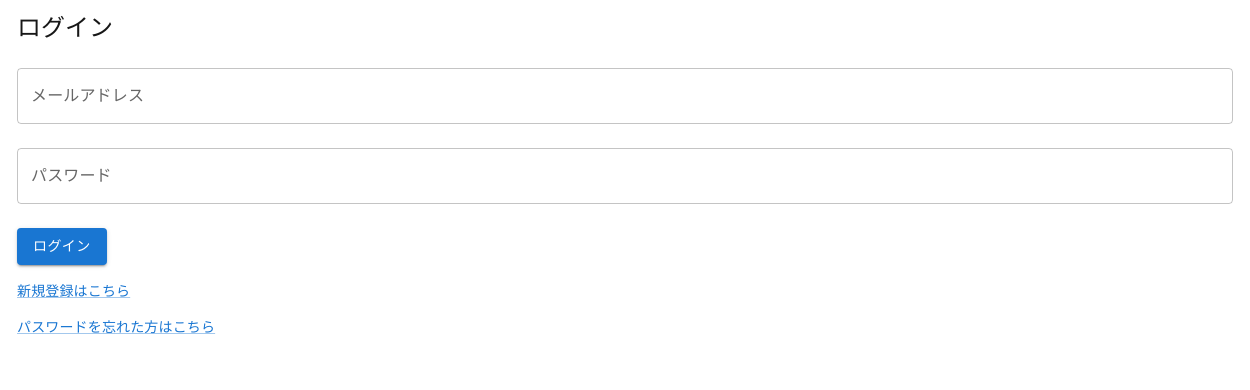
Scenario: LoginPage › ログイン機能 › ログイン失敗時にエラーメッセージが表示される
In the field labelled "メールアドレス": point(625, 96) x1=17 y1=68 x2=1233 y2=124, type "test@example.com"
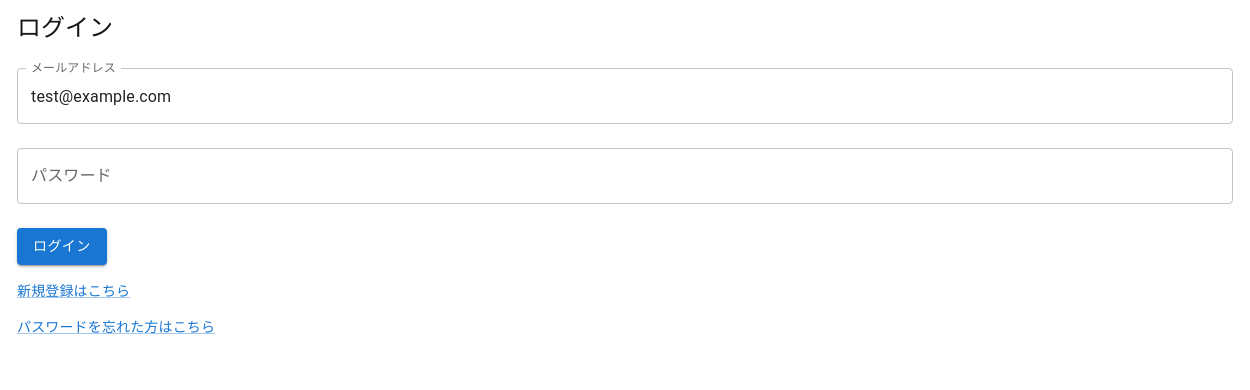
In the password field labelled "パスワード": point(625, 176) x1=17 y1=148 x2=1233 y2=204, type "wrong-password"
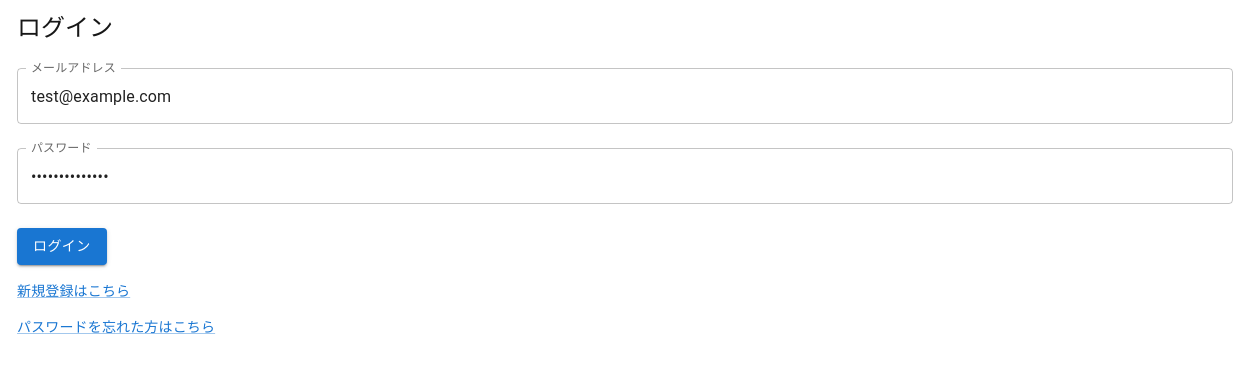
ログインボタンクリック
Click the button "ログイン": point(62, 247) x1=17 y1=228 x2=107 y2=265
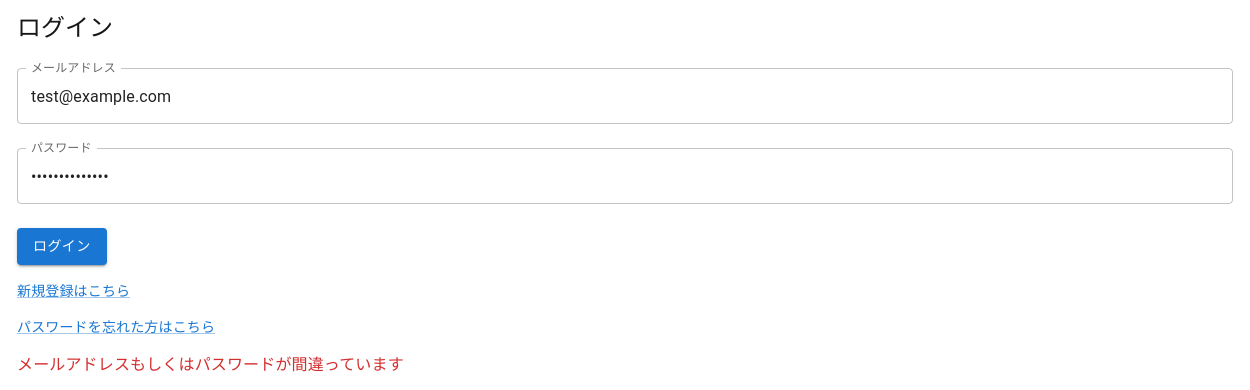
Now the text "メールアドレスもしくはパスワードが間違っています" is shown, box x1=17 y1=355 x2=404 y2=374
